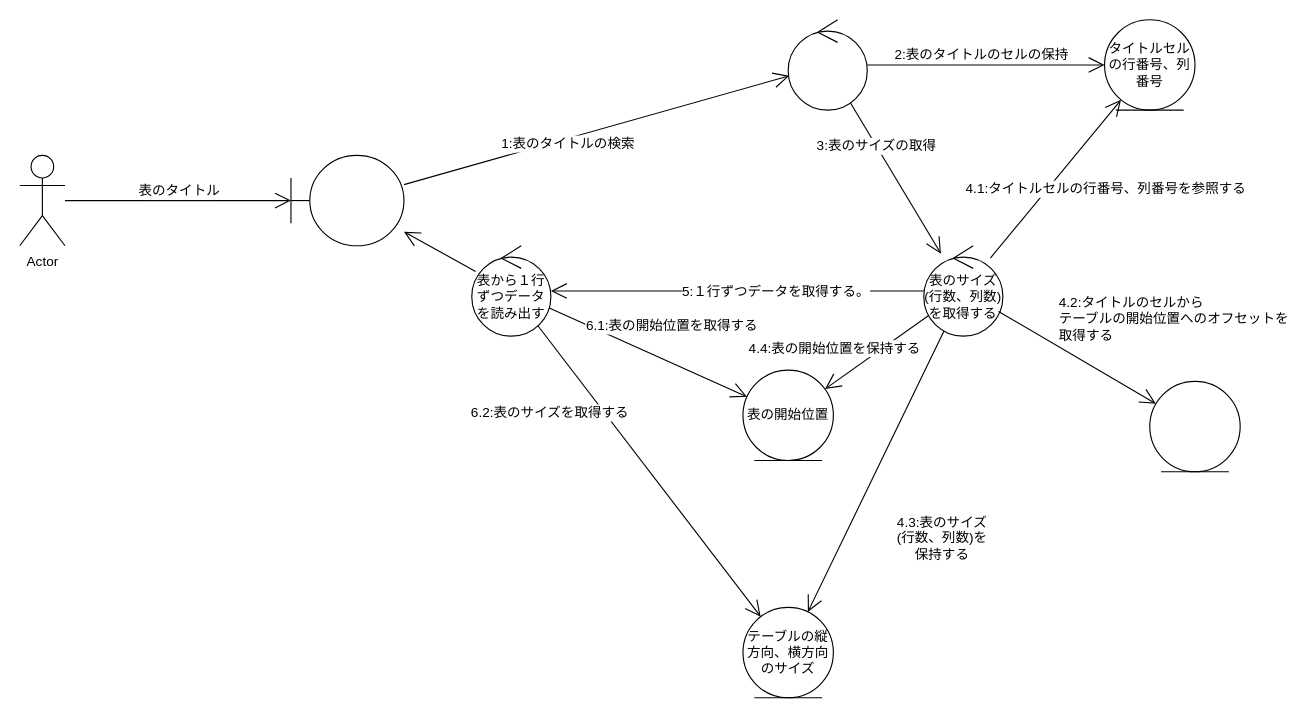
This 1309x718 diagram has some shape labels left out. The centre of each missing label's shape, as x and y in pixels:
"タイトルのセルを取得する" goes at point 827,64.
"テーブルの内容の開始位置 (先頭セルへのオフセット)" goes at point 1194,426.
"表読出しのI/F" goes at point 347,200.
